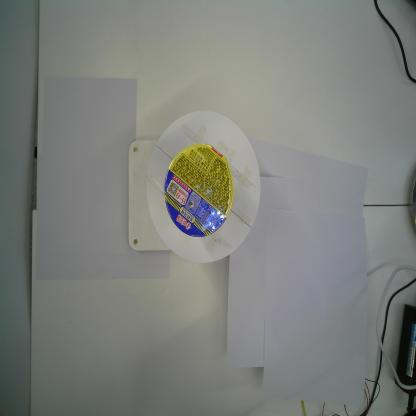Instant Noodles: (162, 143, 236, 239)
